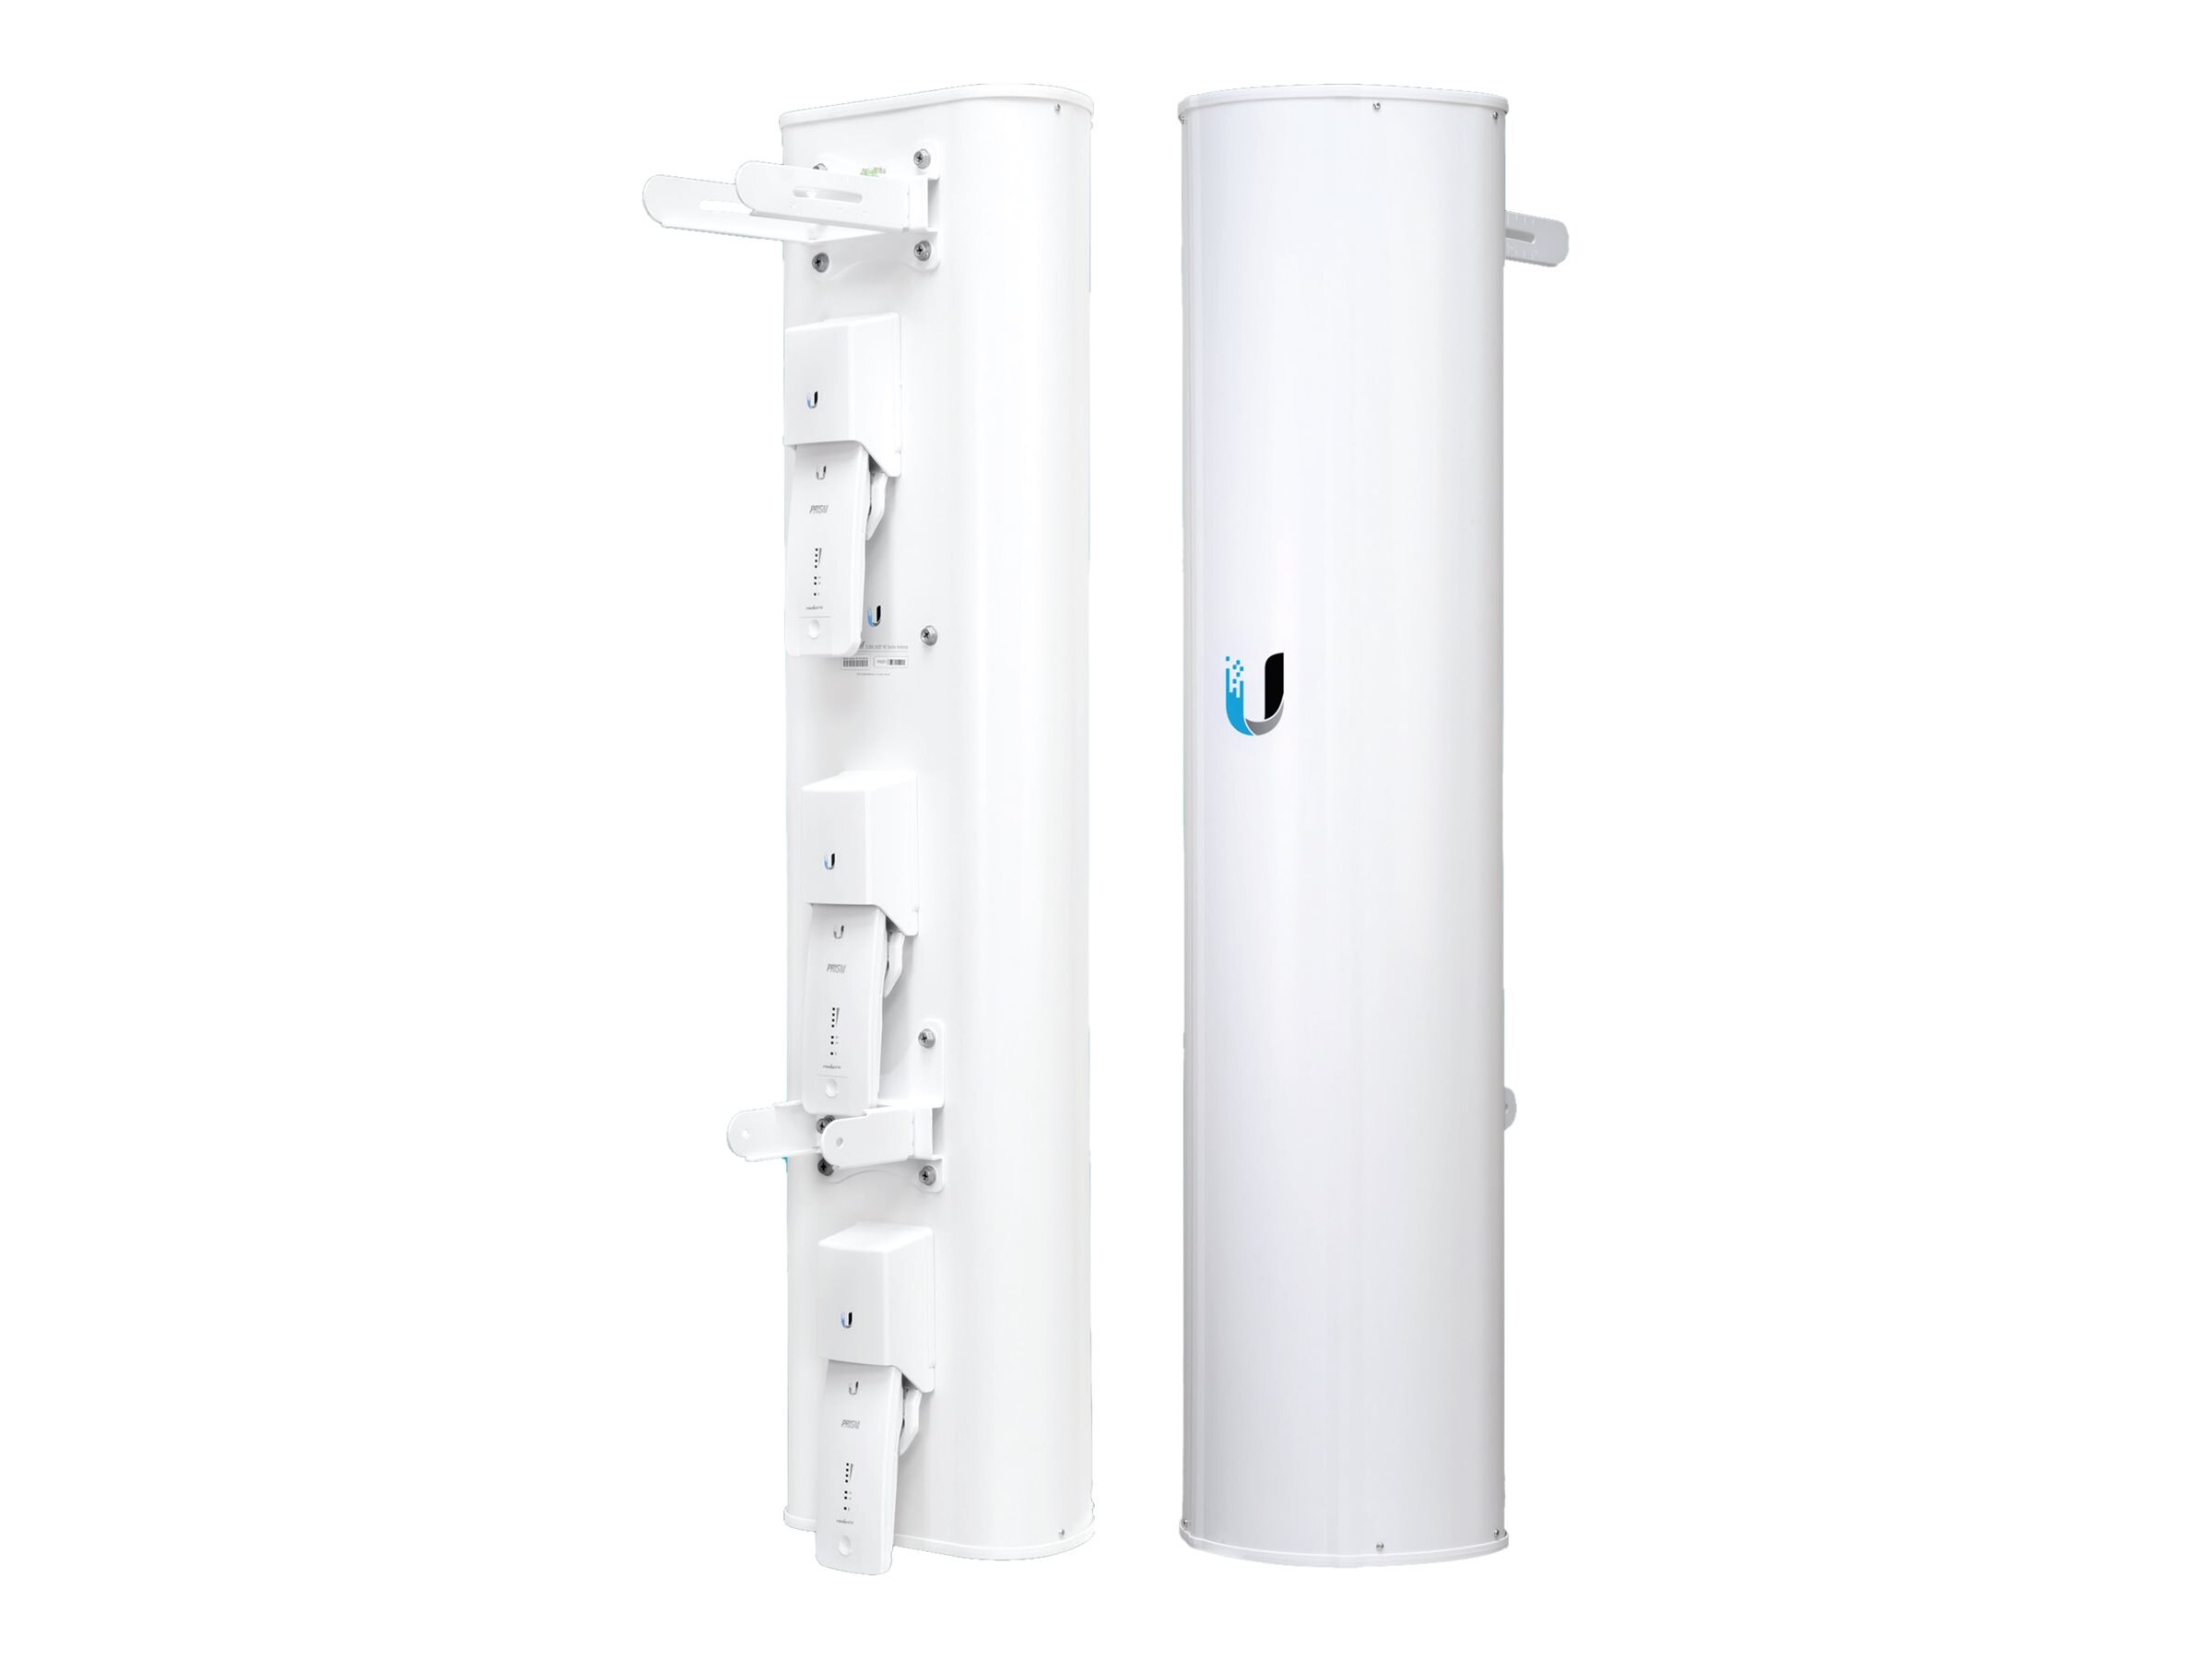sa: (1144, 73, 1599, 1586), (676, 94, 1120, 1607)
